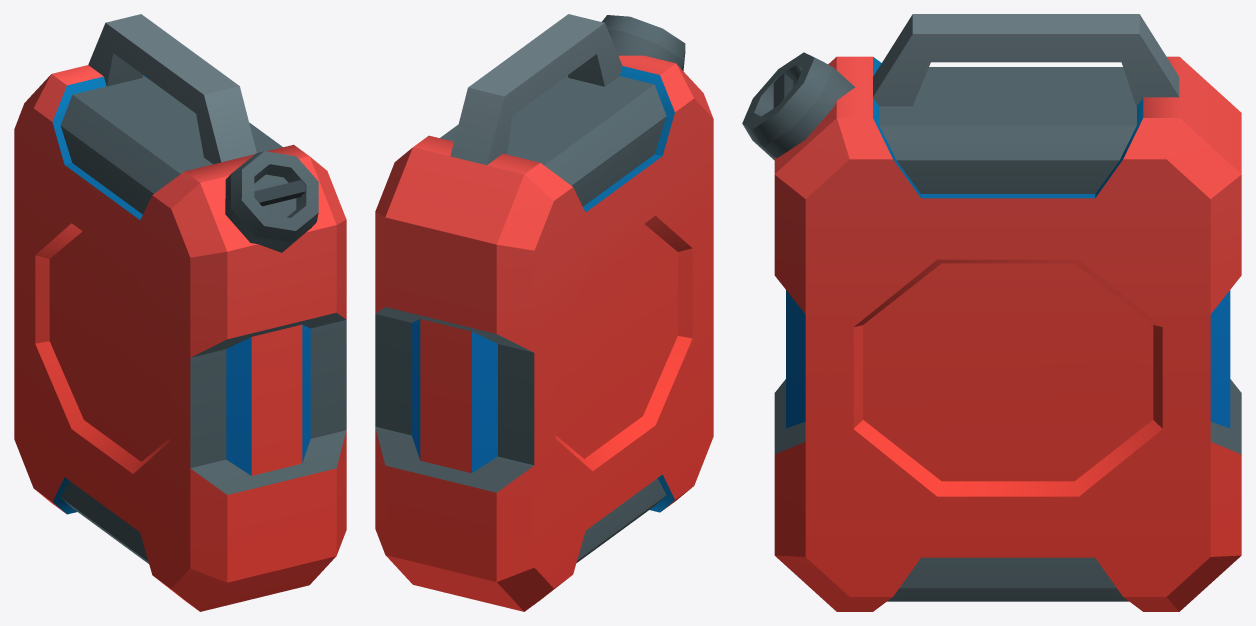
File: Gas_Can_002.fbx
The picture shows the model from 3 angles, left to right: view 1: azimuth 30°, elevation 25°; view 2: azimuth 150°, elevation 25°; view 3: azimuth 270°, elevation 25°; orthographic projection. The views are drawn at different scales.
Visible parts, largest first — view 1: Gas_Can_002; view 2: Gas_Can_002; view 3: Gas_Can_002.
Boxes of the visible parts, left/top/right/bottom form: Gas_Can_002: left=14, top=14, right=346, bottom=611; Gas_Can_002: left=375, top=14, right=713, bottom=611; Gas_Can_002: left=742, top=14, right=1241, bottom=611.
Size of the model in its own units: 20 by 48.11 by 59.21.
